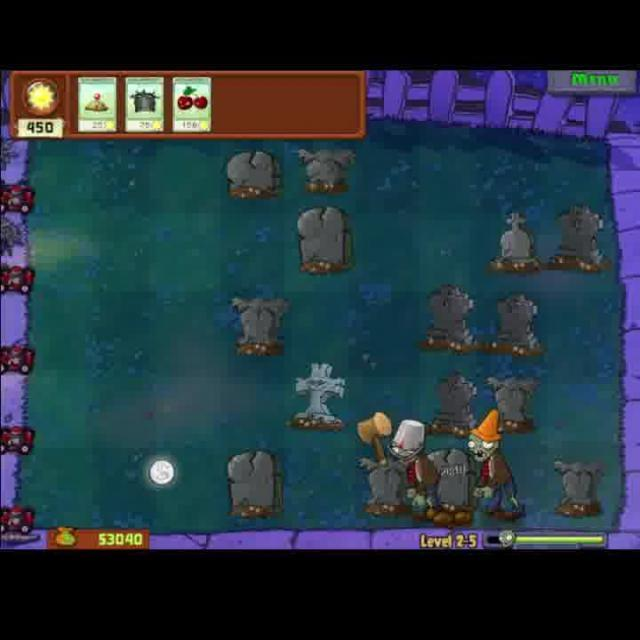coins: (147, 459, 180, 491)
zombies: (462, 406, 526, 524), (382, 407, 444, 525)
